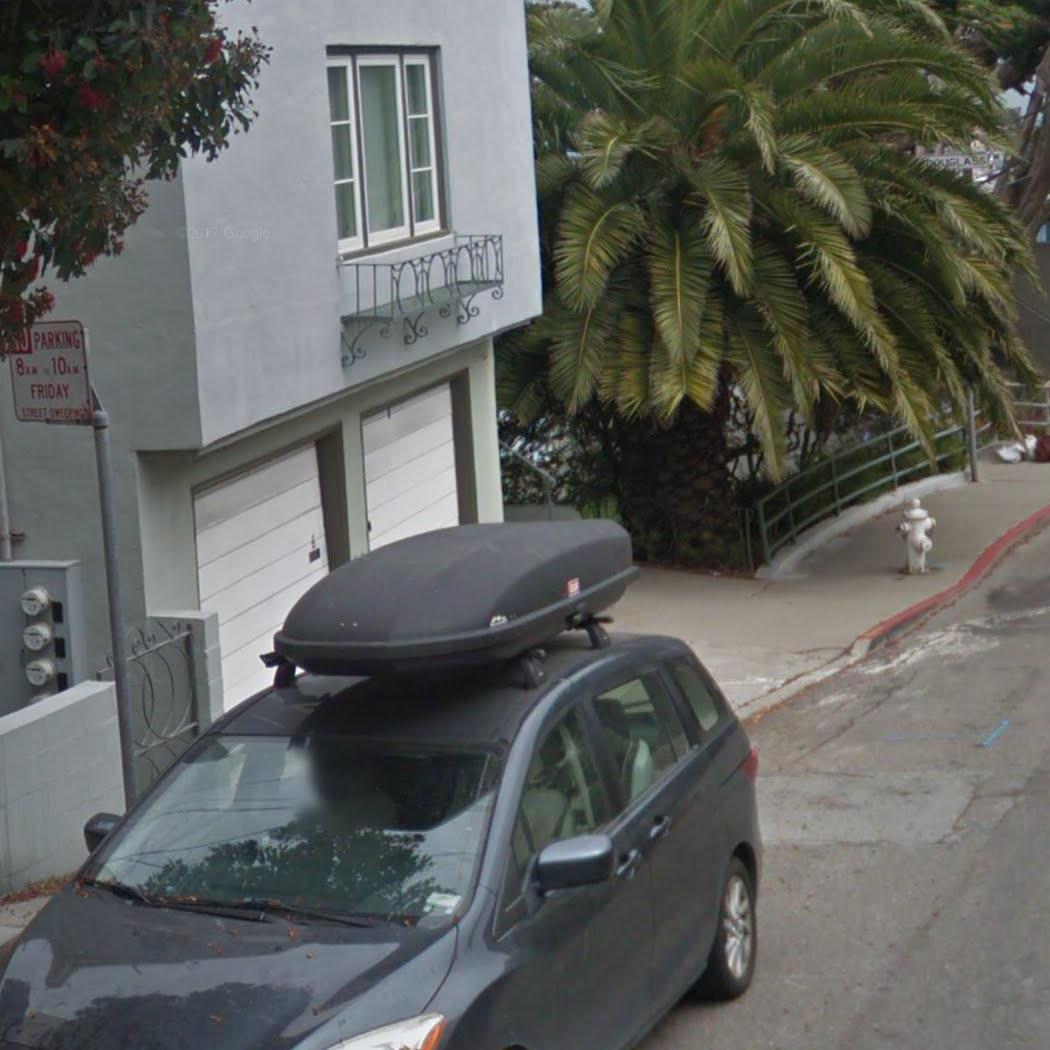No Parking: (0, 311, 104, 438)
